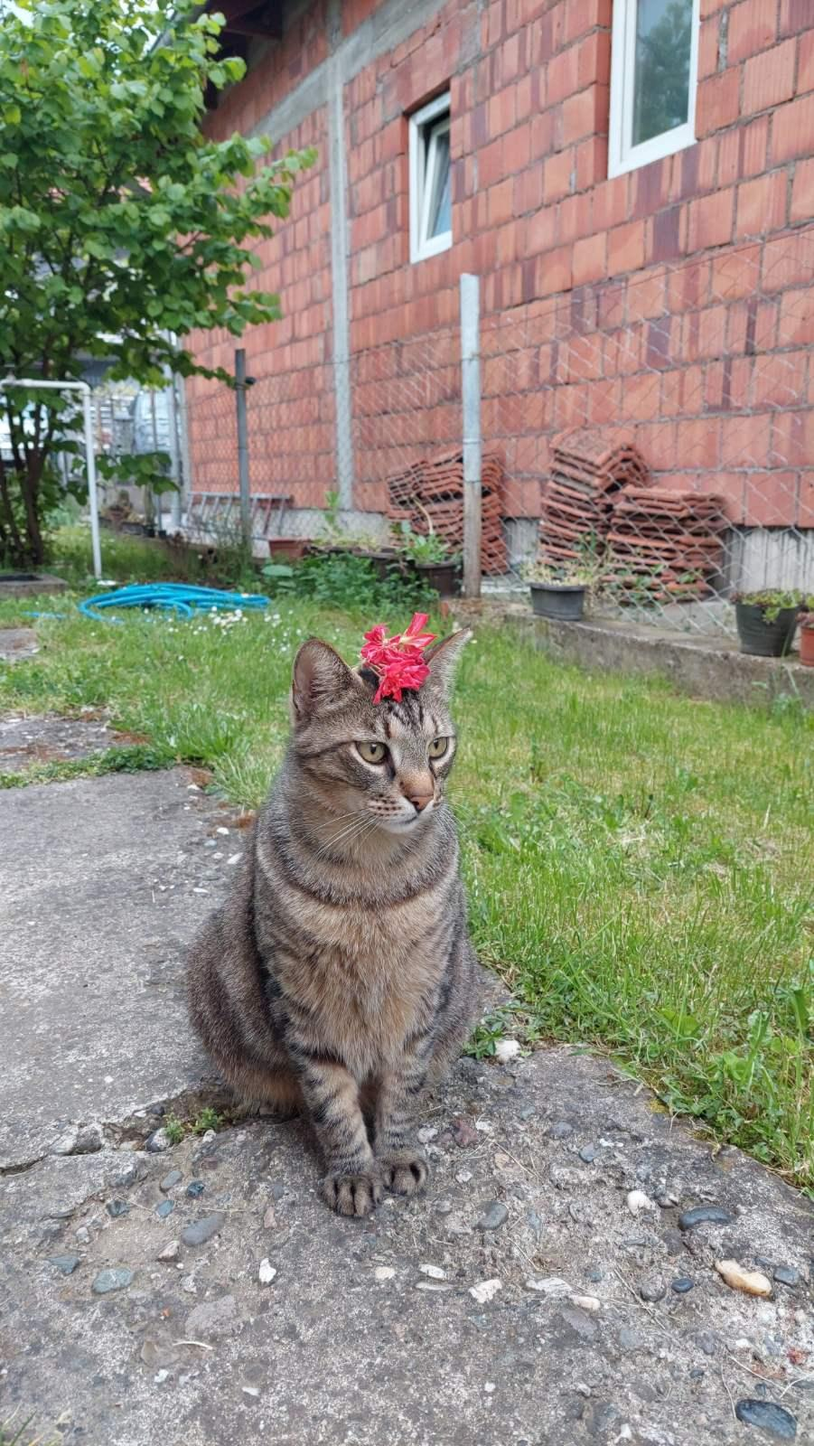macka: (183, 623, 476, 1218)
